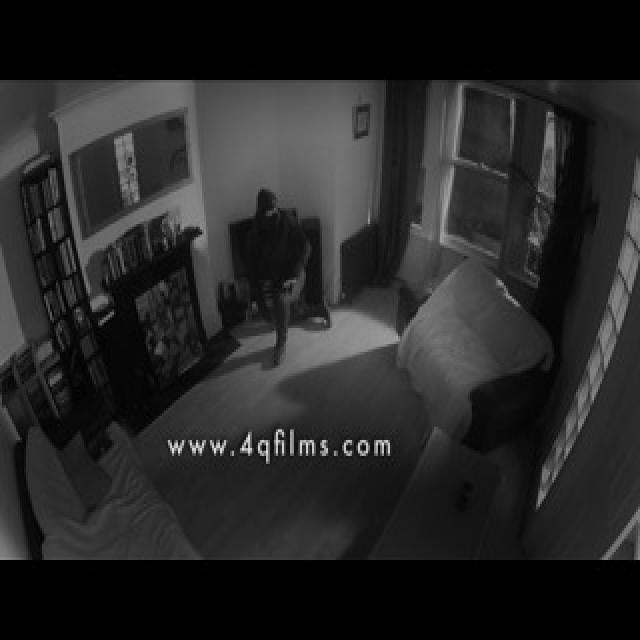thief: (248, 192, 308, 331)
